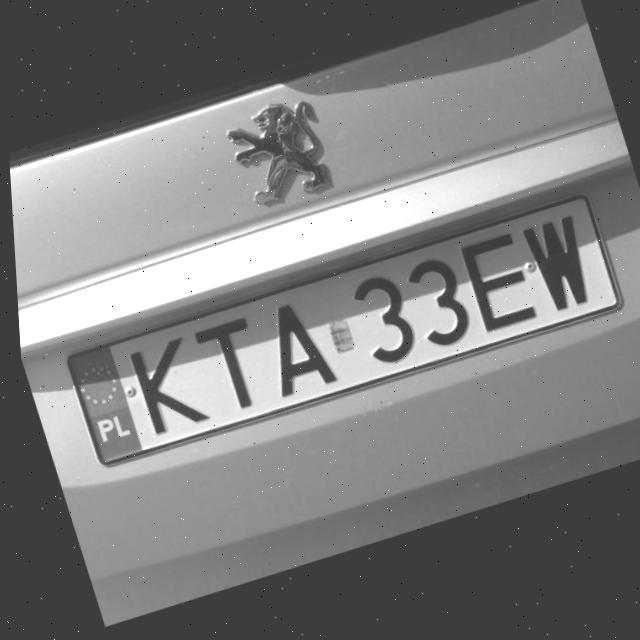license-plates: (68, 197, 620, 464)
